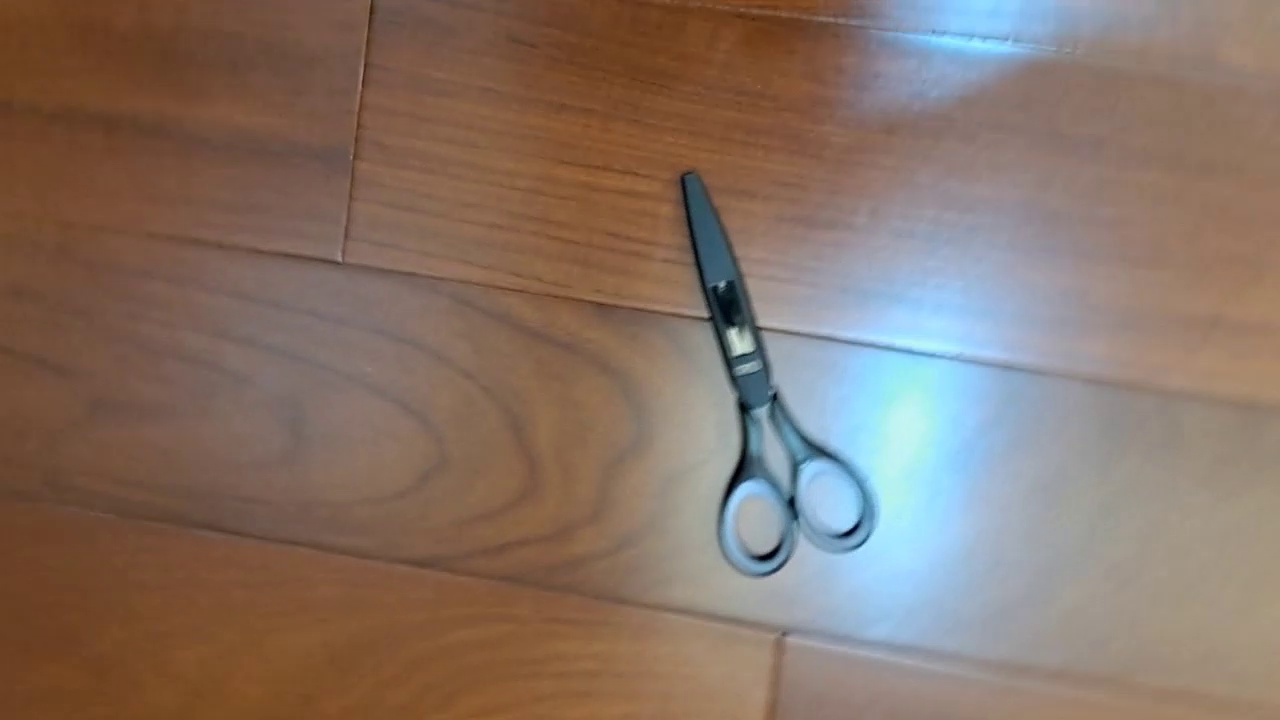scissors: (679, 169, 879, 579)
